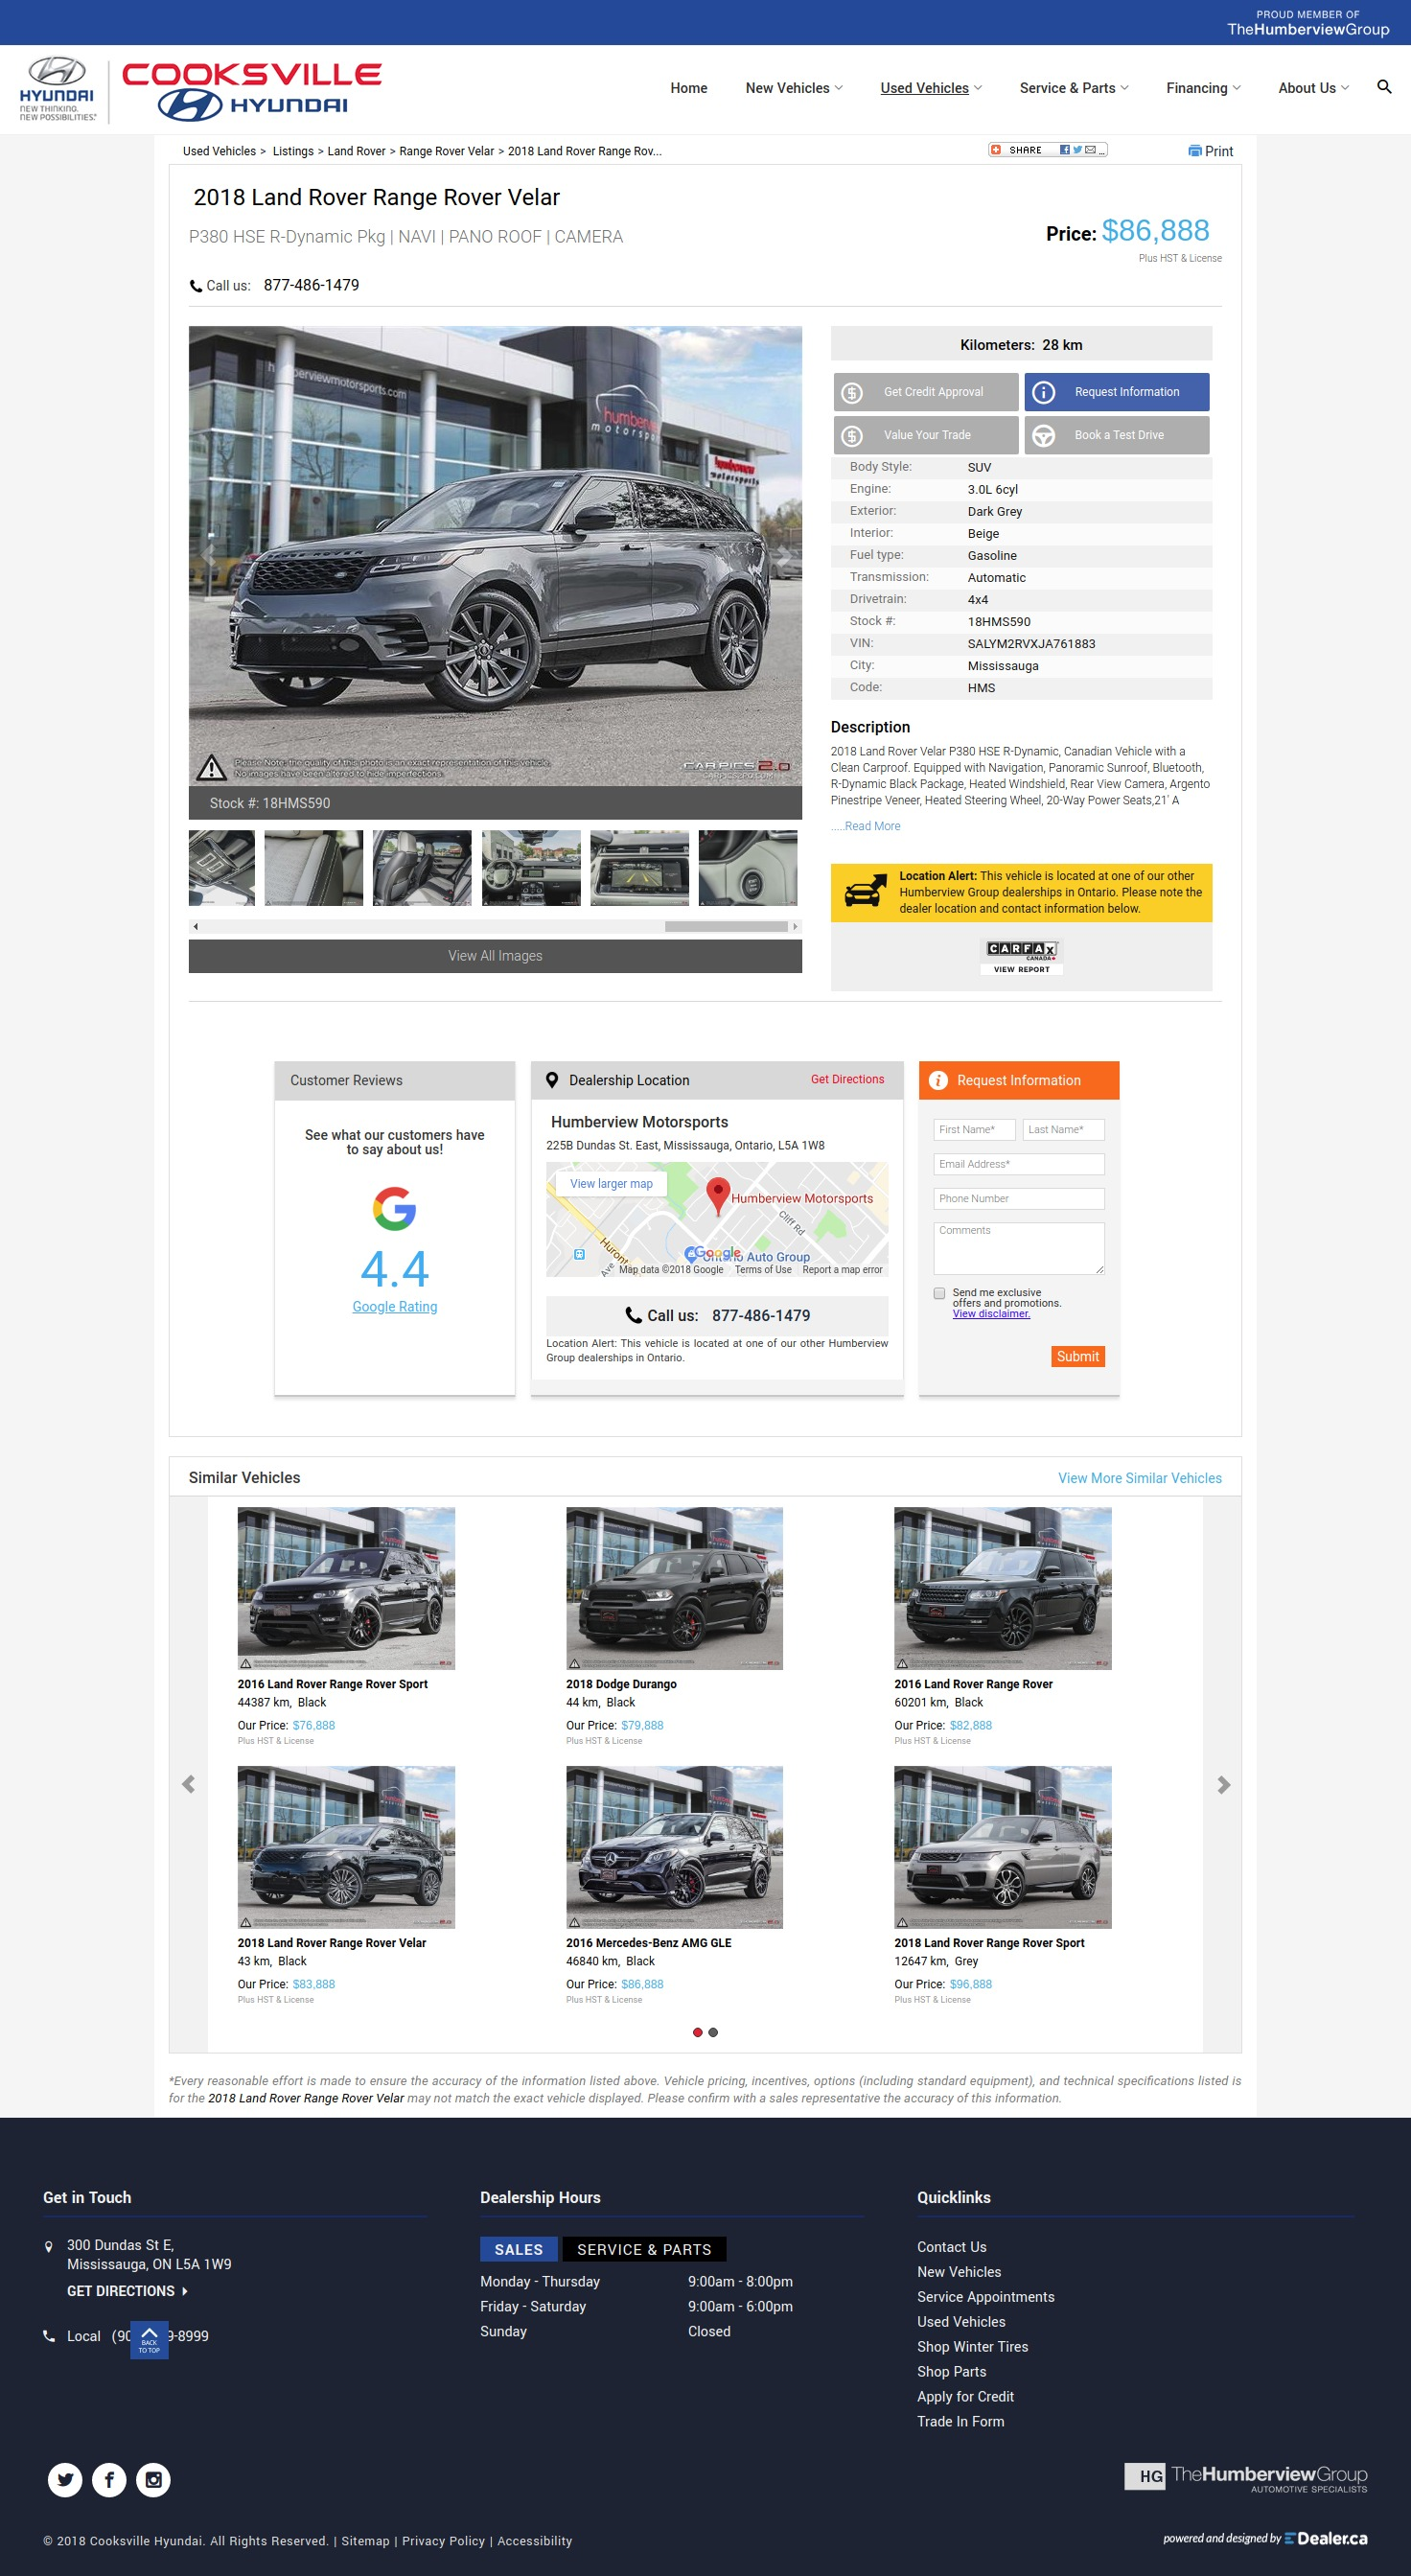car: (794, 922, 799, 931)
